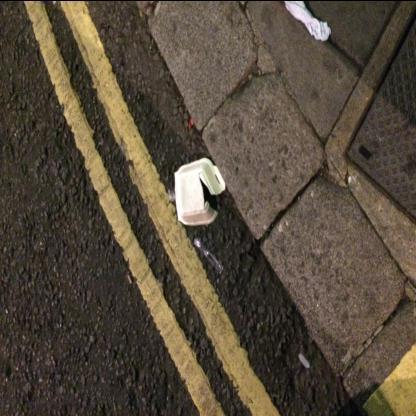kagit: (284, 2, 336, 42)
kopuk: (175, 158, 227, 228)
